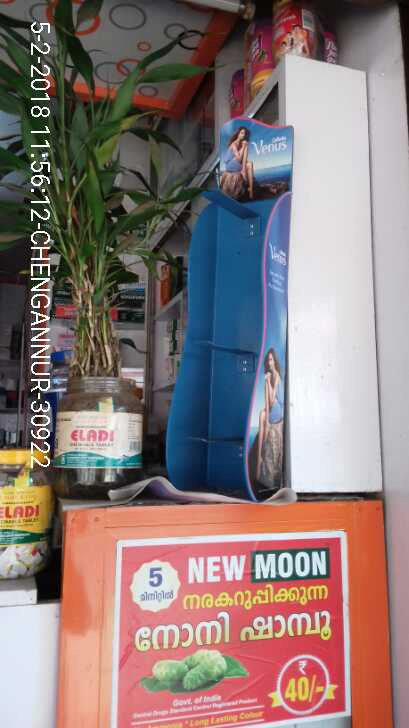reject: (139, 218, 220, 335)
